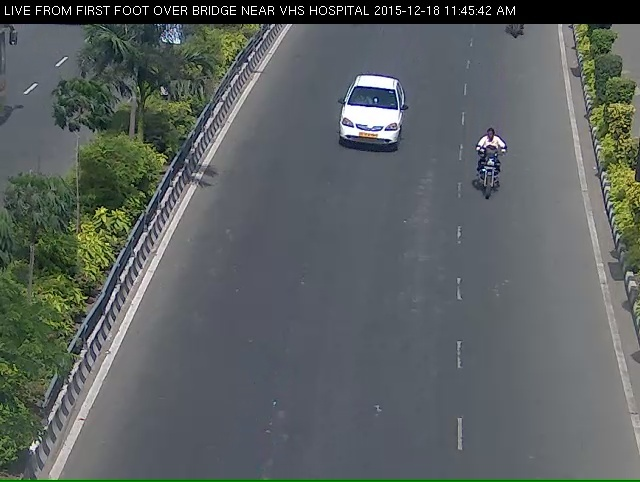Car: (327, 76, 412, 176)
Person: (470, 132, 507, 229)
